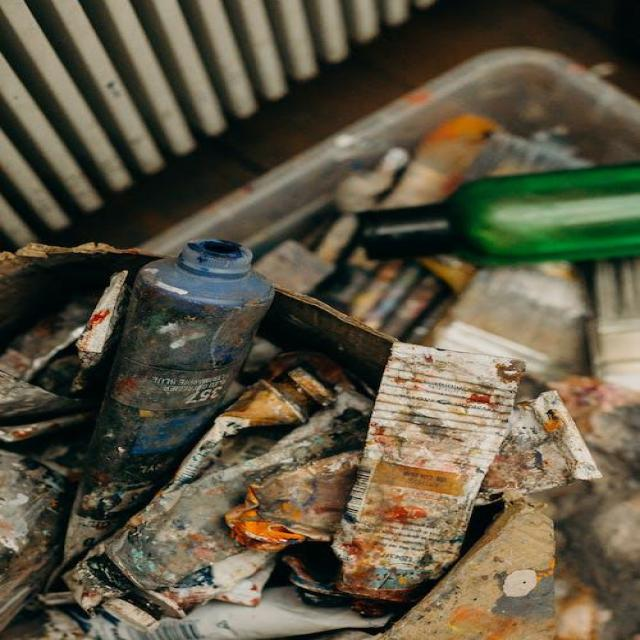paper: (330, 339, 529, 609), (40, 481, 335, 630)
plastic: (123, 221, 271, 448), (336, 164, 640, 273)
trash: (1, 253, 553, 623)
